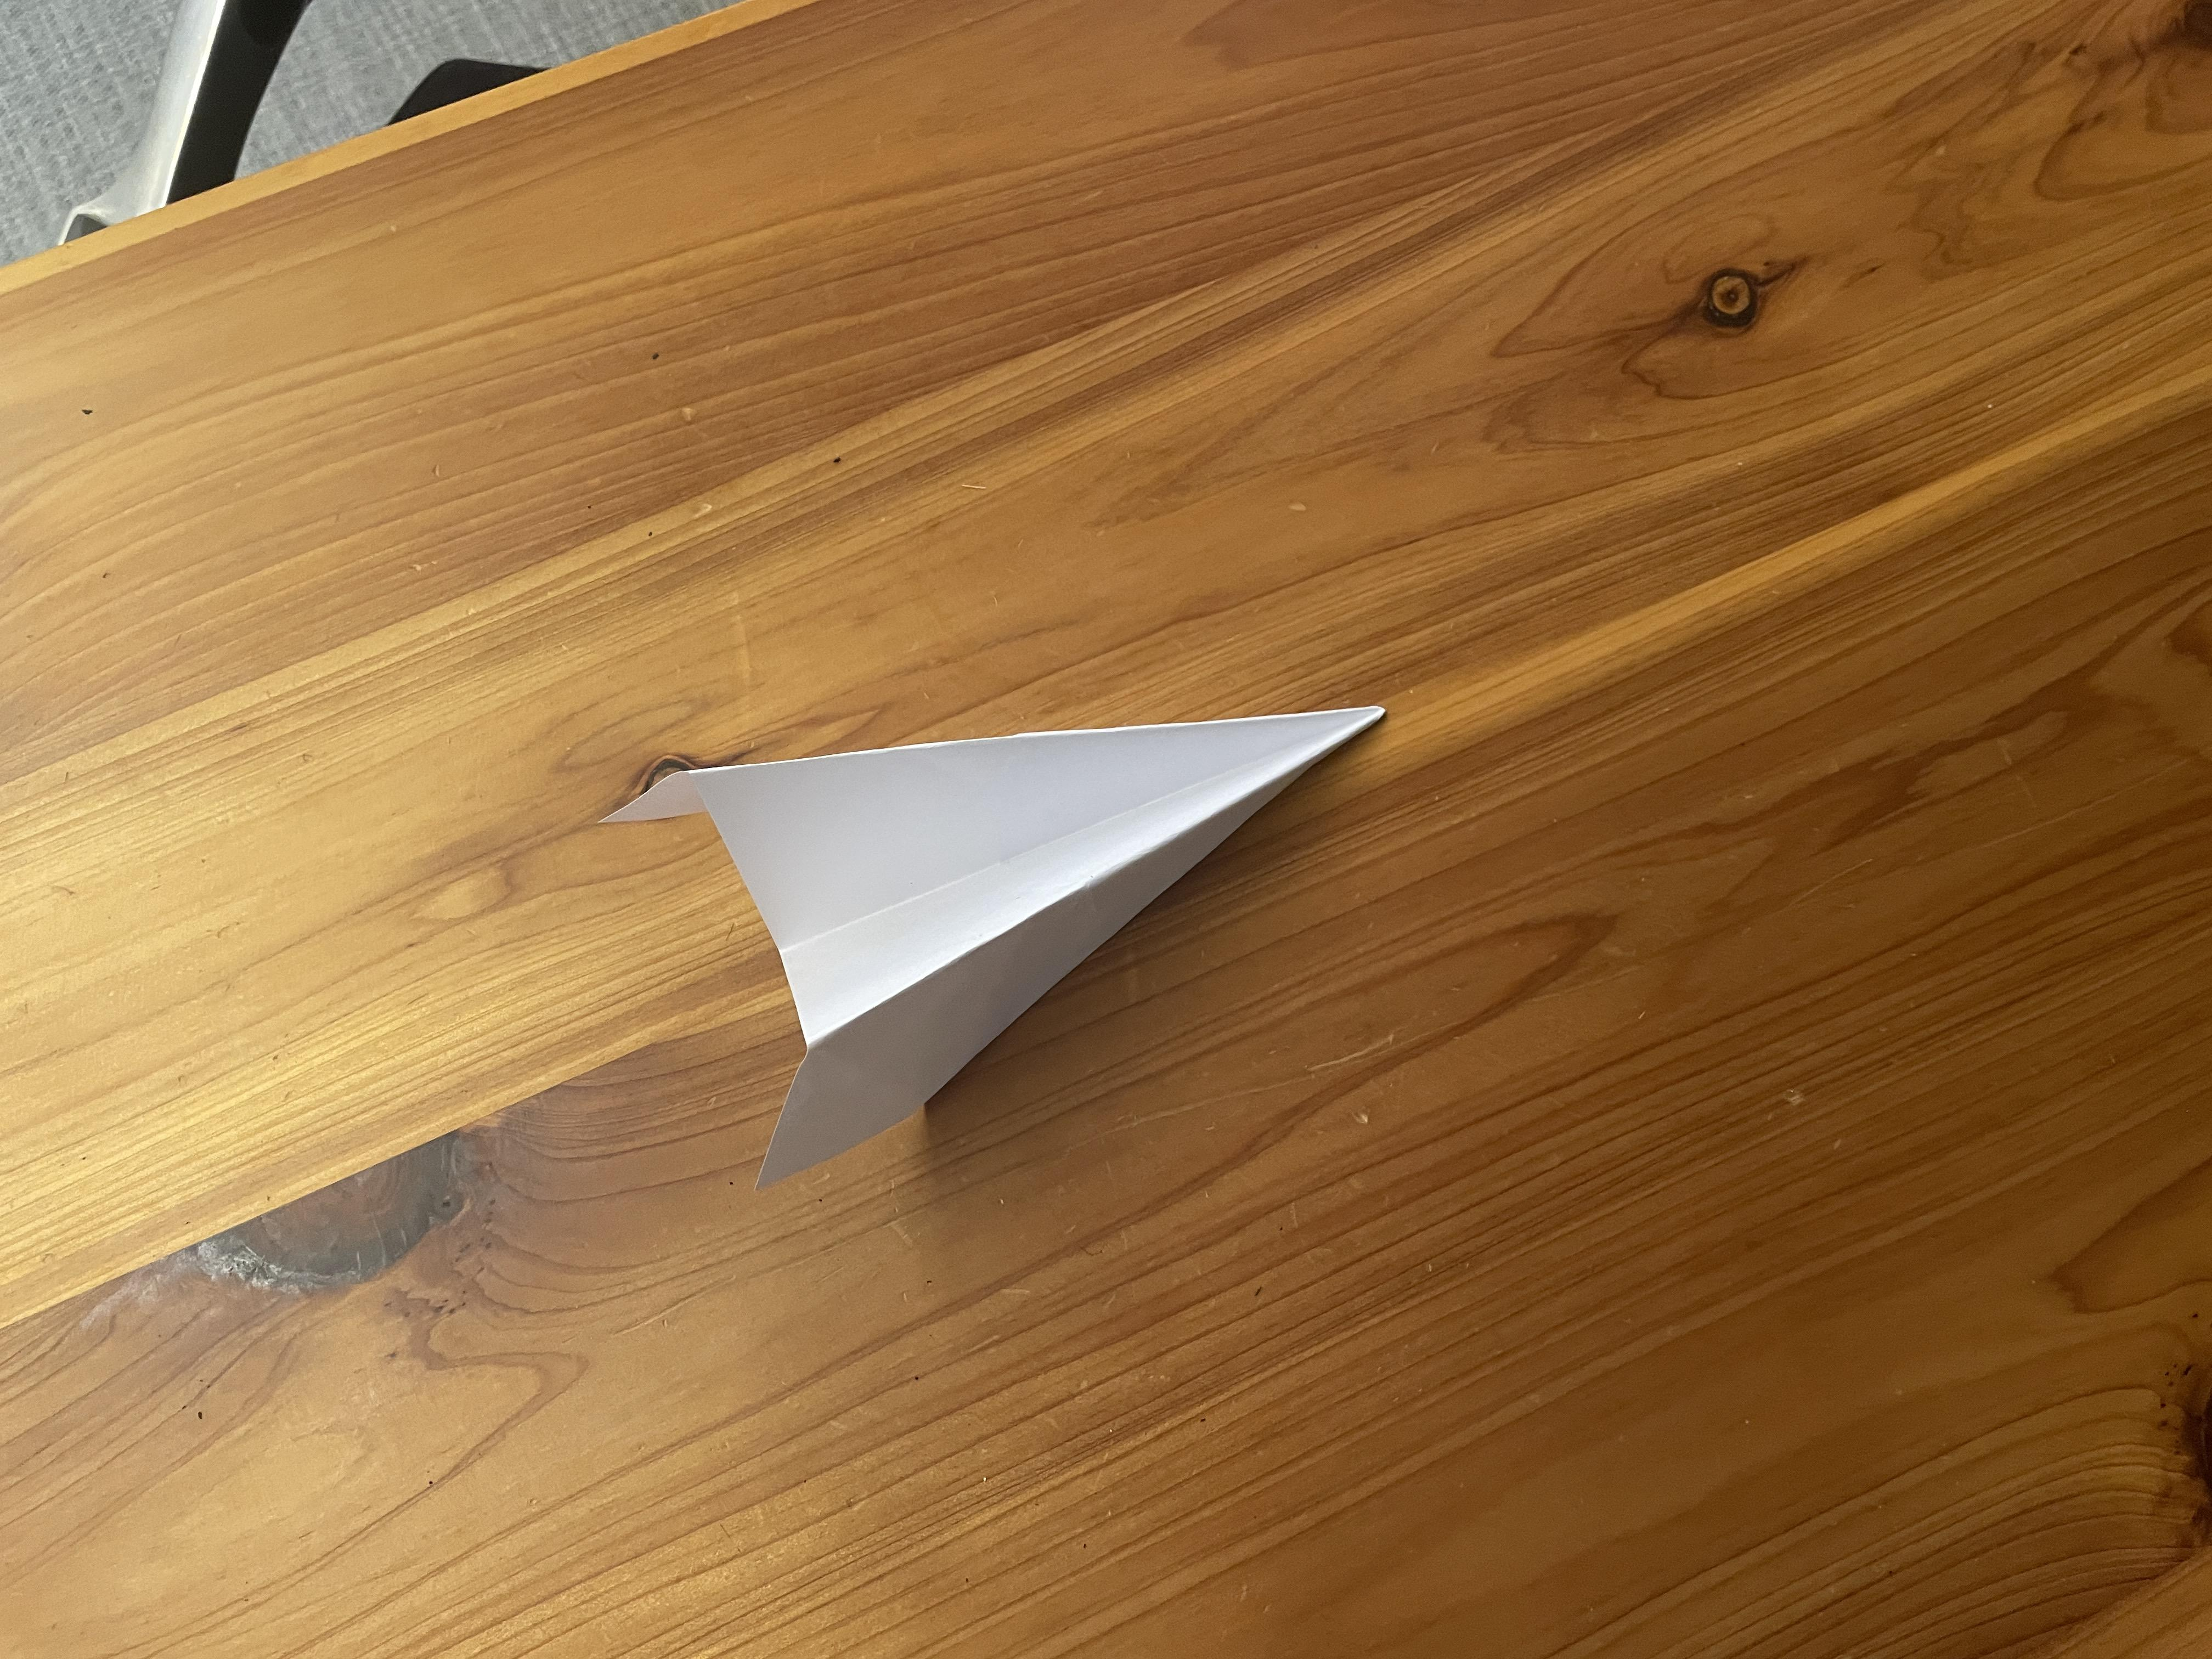shape_3: (545, 598, 1601, 1291)
